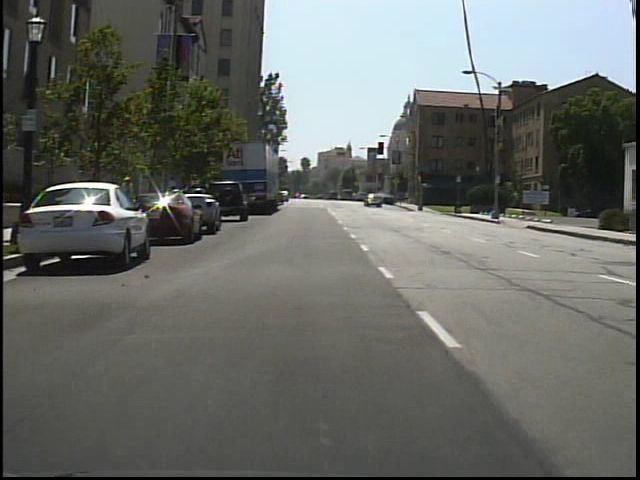person: (86, 168, 110, 224), (119, 172, 141, 222)
